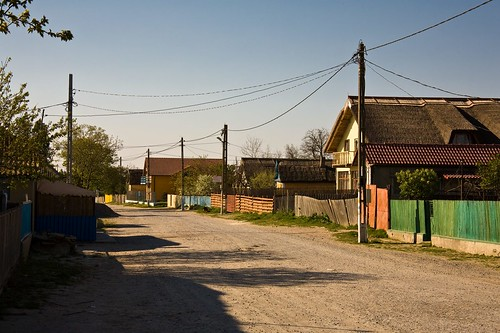building: (325, 92, 498, 254), (236, 151, 335, 218), (142, 155, 229, 203)
road: (55, 204, 500, 333)
sky: (73, 1, 500, 105)
